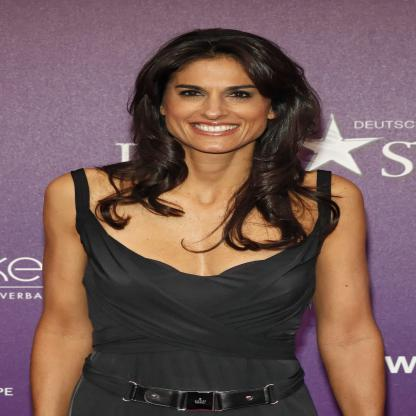long-hair: (108, 153, 326, 207)
